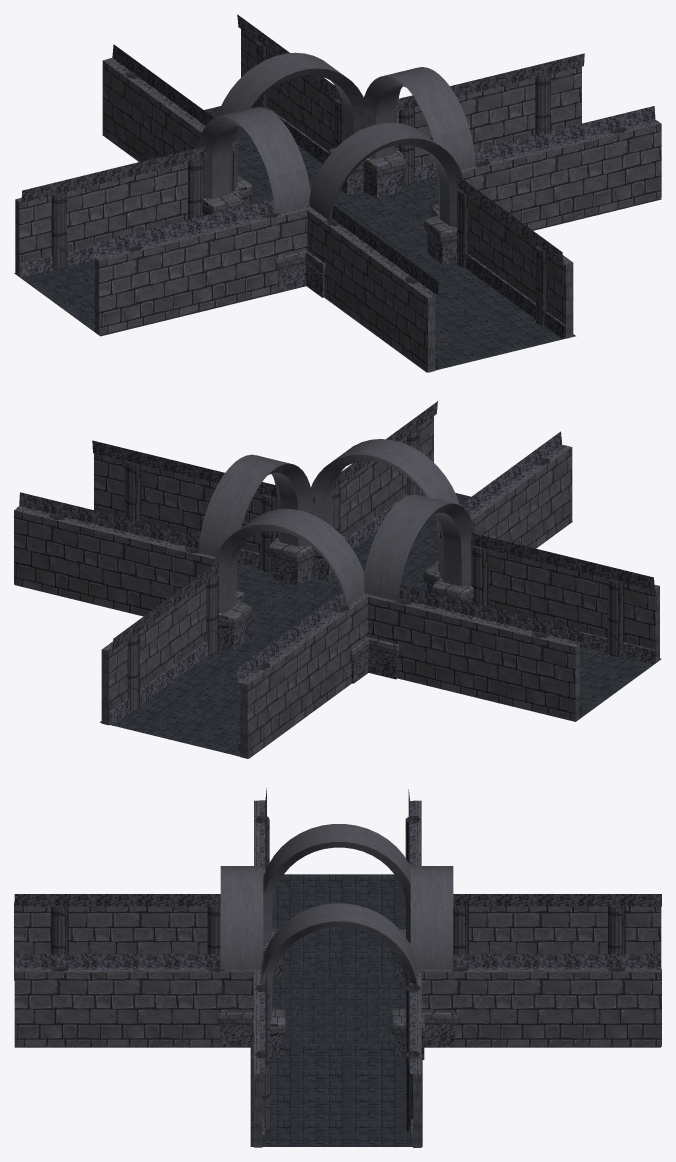
File: room_004.FBX
The picture shows the model from 3 angles, top to bottom: view 1: azimuth 30°, elevation 25°; view 2: azimuth 150°, elevation 25°; view 3: azimuth 270°, elevation 25°; orthographic projection.
Parts seen in each view (by area): view 1: Box57, Box55, Box01, Box60, Plane01, Arc04, Box48, Box66, Box51, Arc05, Arc02, Arc01 (+28 smaller); view 2: Box60, Box48, Box66, Box57, Plane04, Arc04, Box55, Box01, Box63, Arc05, Arc01, Arc02 (+28 smaller); view 3: Box63, Box51, Plane02, Plane03, Box01, Box66, Plane05, Arc04, Arc05, Arc02, Arc01, Box64 (+16 smaller).
Boxes of the visible parts, bbox=[...] form: Box57: bbox=[95, 208, 307, 334]; Box55: bbox=[460, 120, 661, 229]; Box01: bbox=[305, 207, 435, 372]; Box60: bbox=[15, 152, 232, 276]; Plane01: bbox=[324, 252, 575, 372]; Arc04: bbox=[198, 107, 310, 213]; Box48: bbox=[395, 66, 581, 166]; Box66: bbox=[102, 59, 203, 161]; Box51: bbox=[469, 196, 573, 338]; Arc05: bbox=[360, 67, 475, 214]; Arc02: bbox=[309, 122, 463, 227]; Arc01: bbox=[217, 52, 363, 191]; Box60: bbox=[364, 594, 579, 721]; Box48: bbox=[14, 508, 215, 615]; Box66: bbox=[240, 594, 368, 758]; Box57: bbox=[488, 550, 659, 662]; Plane04: bbox=[100, 639, 351, 758]; Arc04: bbox=[363, 494, 475, 601]; Box55: bbox=[94, 453, 260, 553]; Box01: bbox=[471, 445, 572, 548]; Box63: bbox=[101, 583, 206, 725]; Arc05: bbox=[198, 454, 313, 556]; Arc01: bbox=[213, 508, 364, 613]; Arc02: bbox=[311, 439, 459, 573]; Box63: bbox=[416, 969, 661, 1046]; Box51: bbox=[14, 970, 259, 1046]; Plane02: bbox=[250, 1043, 422, 1146]; Plane03: bbox=[272, 874, 405, 978]; Box01: bbox=[14, 901, 207, 953]; Box66: bbox=[469, 906, 661, 953]; Plane05: bbox=[272, 978, 405, 1043]; Arc04: bbox=[263, 824, 410, 944]; Arc05: bbox=[261, 903, 416, 1021]; Arc02: bbox=[220, 866, 263, 969]; Arc01: bbox=[410, 866, 453, 969]; Box64: bbox=[453, 954, 661, 969].
Bounding box in the file's own units: 2891 × 681 × 2892.
Materials: 7 (7 with a texture image).
